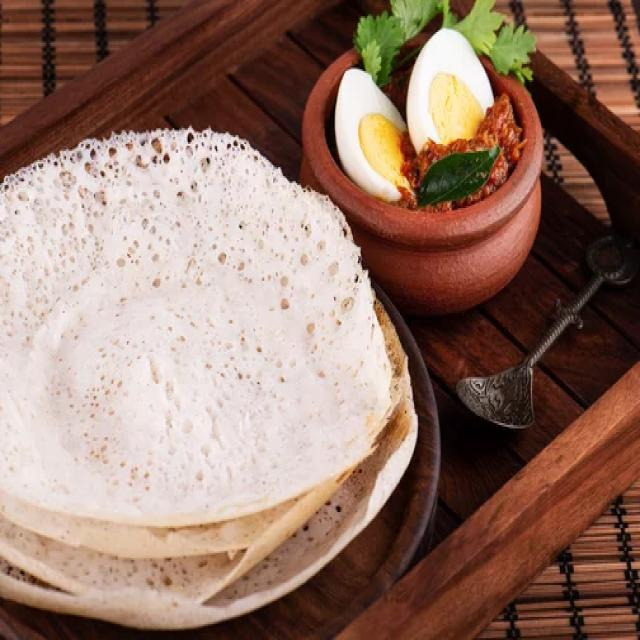AAPAM: (1, 116, 395, 634)
EGG: (310, 25, 551, 255)
